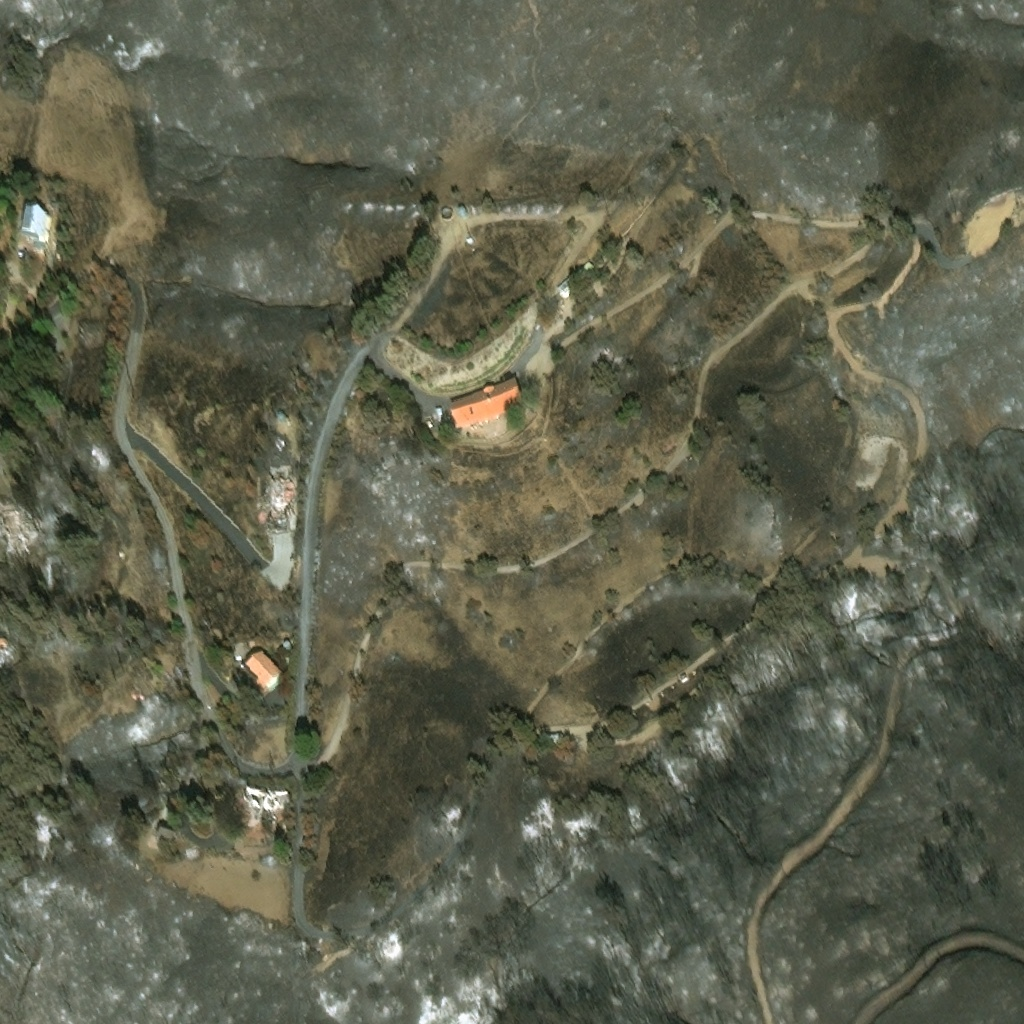0 no-damage: (450, 375, 525, 429), (242, 649, 283, 691), (21, 204, 49, 247)
3 destroyed: (241, 787, 287, 824), (0, 501, 32, 553), (266, 470, 288, 526), (76, 314, 96, 336), (151, 827, 175, 844), (278, 823, 291, 842), (540, 732, 561, 742), (13, 248, 24, 267), (183, 844, 195, 857), (261, 475, 267, 495), (250, 846, 260, 851), (0, 449, 4, 460)
